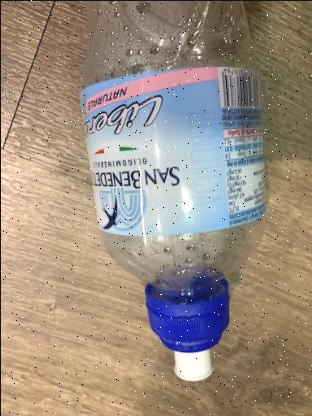Plastic Bottle: (76, 0, 282, 402)
